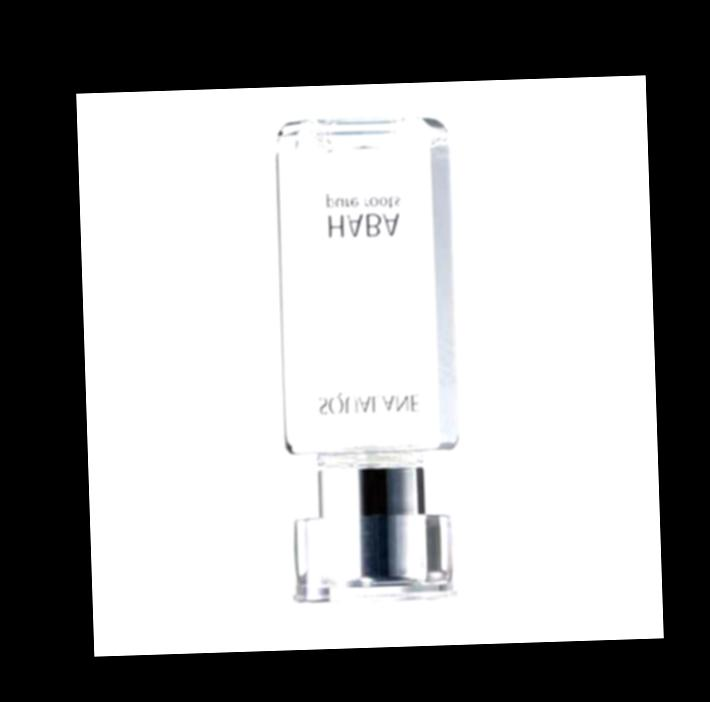cosmetic: (272, 116, 464, 605)
